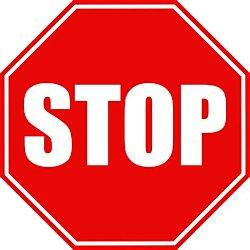Stop: (5, 5, 245, 244)
